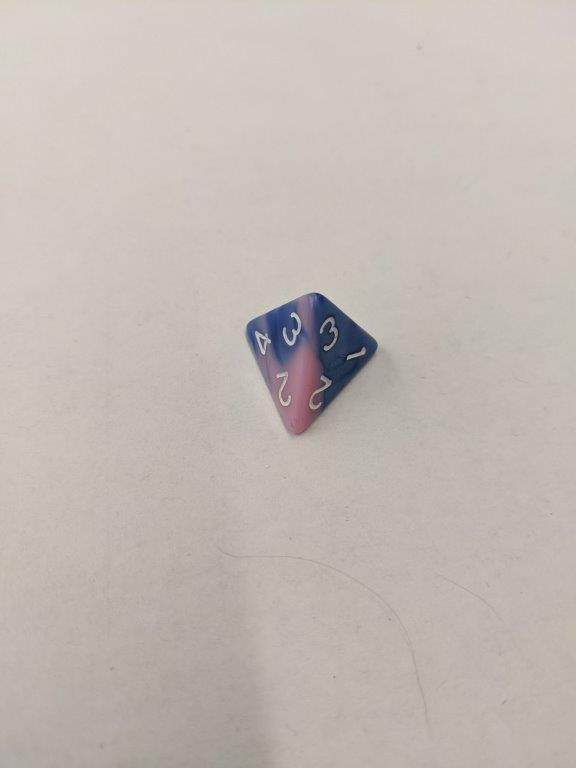d4-3: (243, 289, 383, 438)
